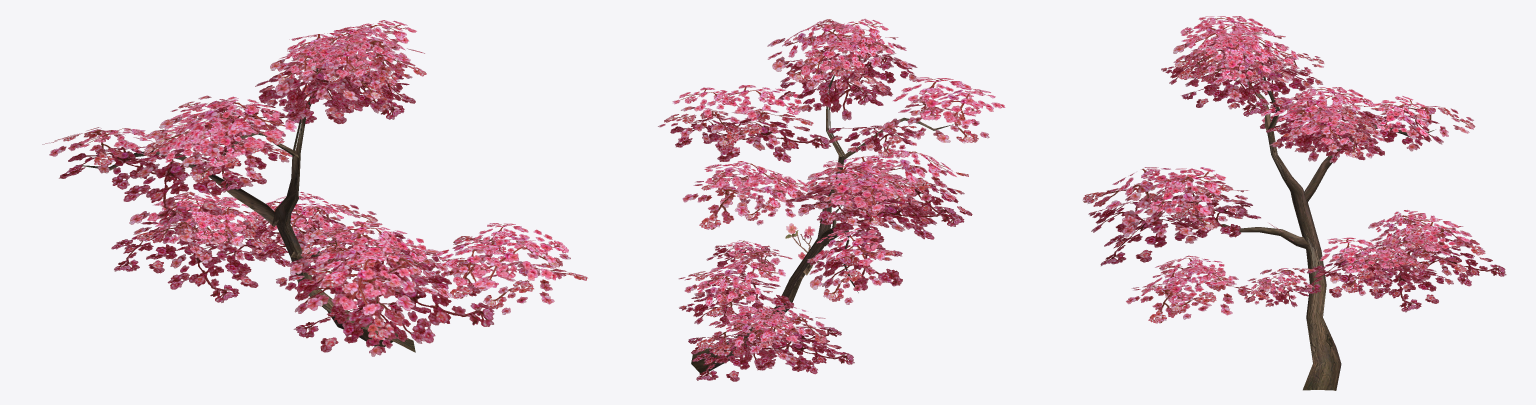
The model's file is S_Tree_Red002_A2.FBX.
3 views of the same model, side by side, from view 1: azimuth 30°, elevation 25°; view 2: azimuth 150°, elevation 25°; view 3: azimuth 270°, elevation 25° (orthographic). The views are drawn at different scales.
Visible parts, largest first — view 1: S_Tree_Red002_A2_2, S_Tree_Red002_A2_1; view 2: S_Tree_Red002_A2_2, S_Tree_Red002_A2_1; view 3: S_Tree_Red002_A2_2, S_Tree_Red002_A2_1.
Part boxes in pixels (box(x1,y1,x2,y2)): S_Tree_Red002_A2_2: box(42, 20, 587, 356); S_Tree_Red002_A2_1: box(76, 68, 415, 352); S_Tree_Red002_A2_2: box(658, 18, 1005, 381); S_Tree_Red002_A2_1: box(691, 75, 953, 373); S_Tree_Red002_A2_2: box(1082, 16, 1506, 323); S_Tree_Red002_A2_1: box(1203, 63, 1435, 390).
Size of the model in its own units: 508 by 433 by 575.
